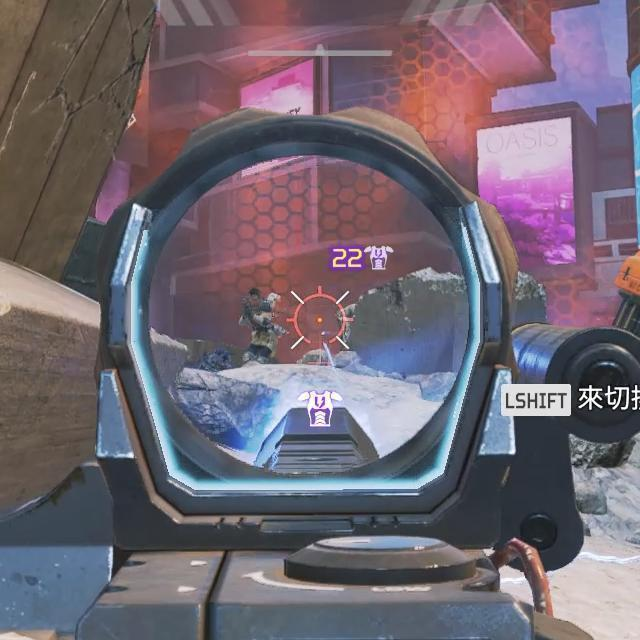avatar: (237, 286, 282, 363)
